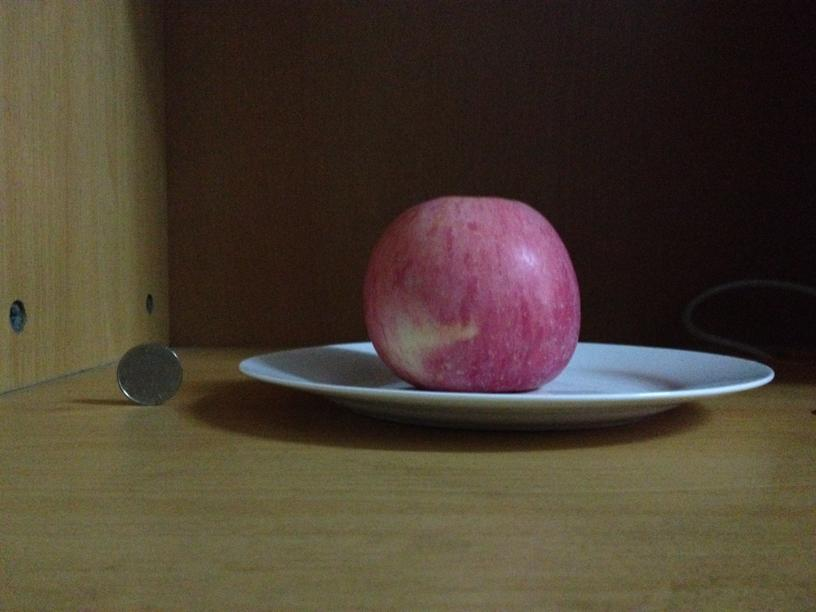apple: (362, 196, 581, 390)
coin: (115, 341, 183, 405)
